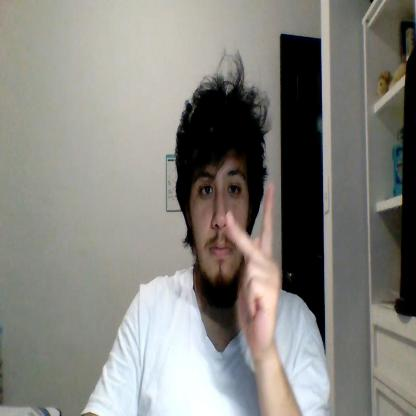P: (225, 184, 280, 350)
